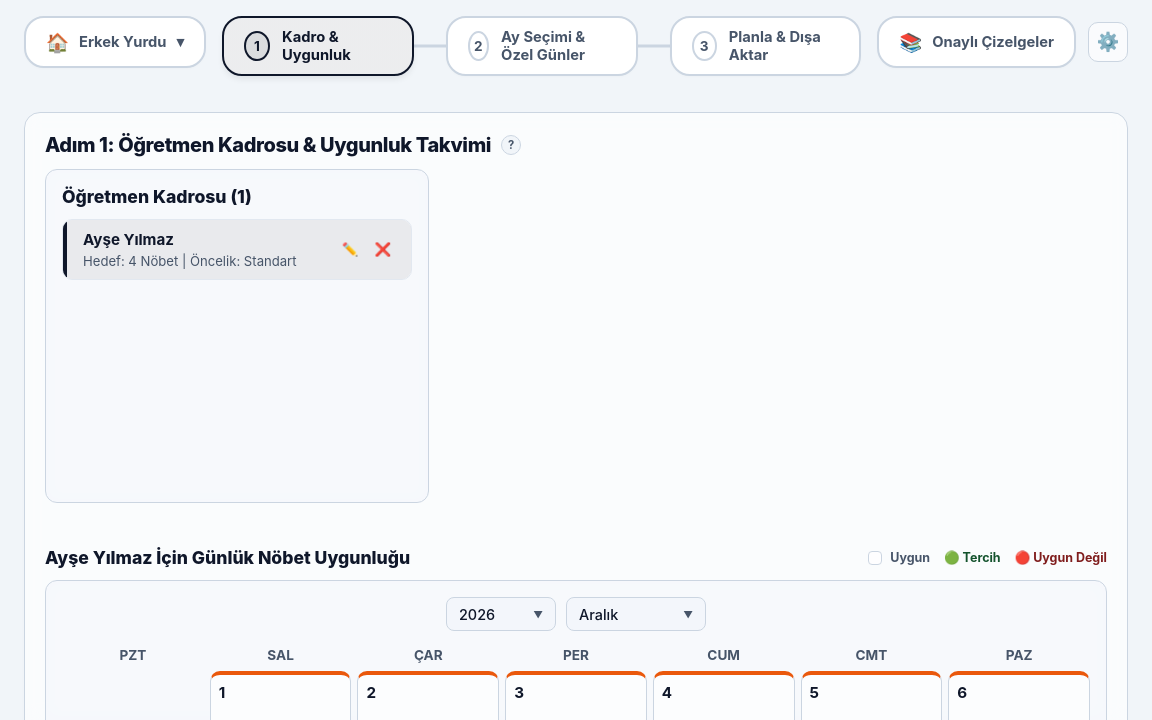
it: choosing a duty post › switches post from a later step too
Expected: the heading "Öğretmen Kadrosu (1)" is shown, [62,186,252,207]
Click the text "Planla & Dışa Aktar". click: (775, 46)
box: [729,28,821,64]
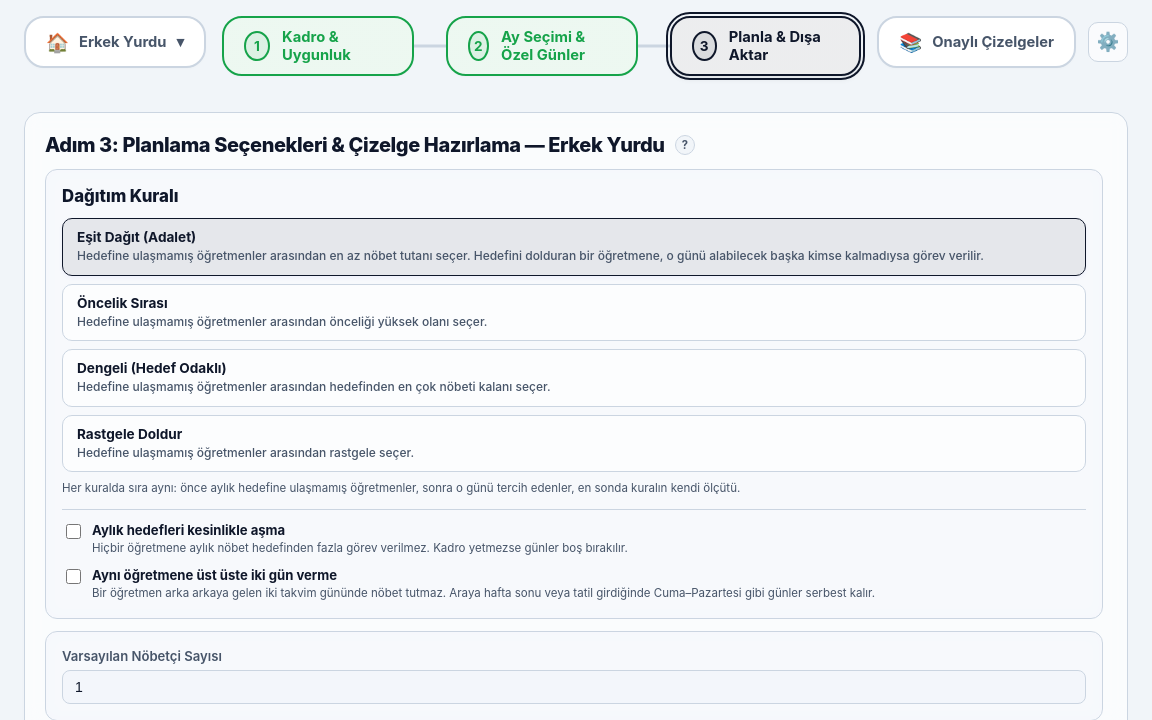
Click the button with aria-label "Nöbet yeri: ". click: (115, 42)
box: [24,16,206,68]
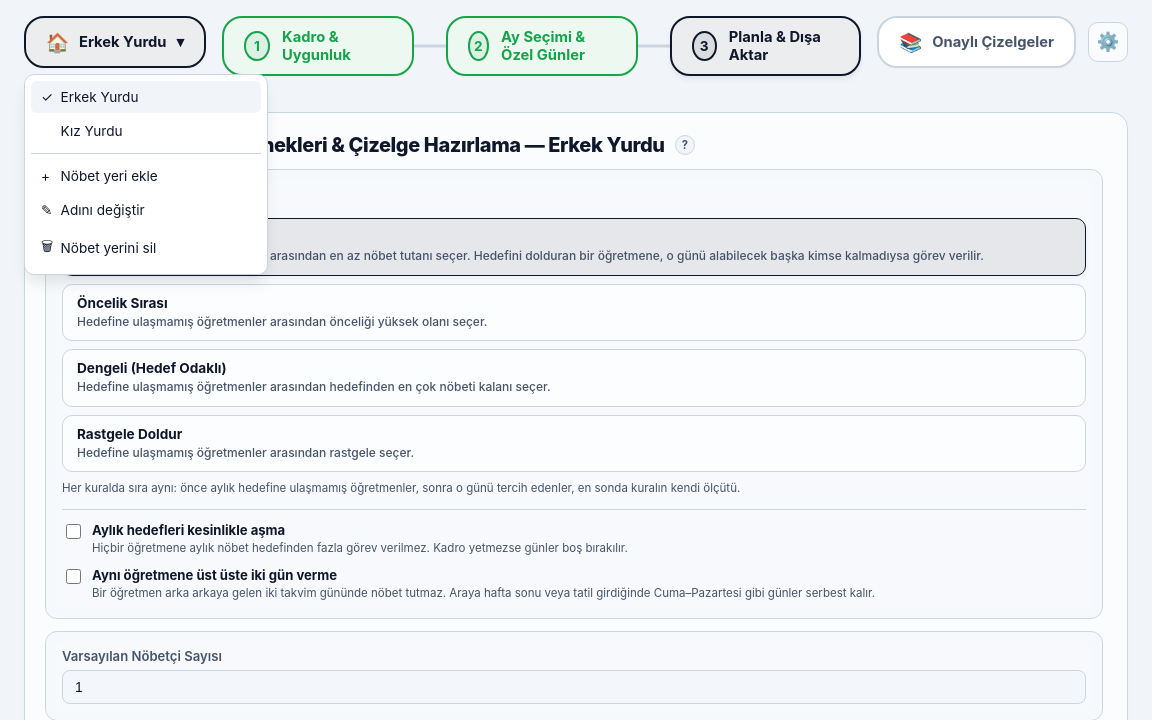
Click the menu item "Kız Yurdu". click: (146, 131)
box: [31,115,261,147]
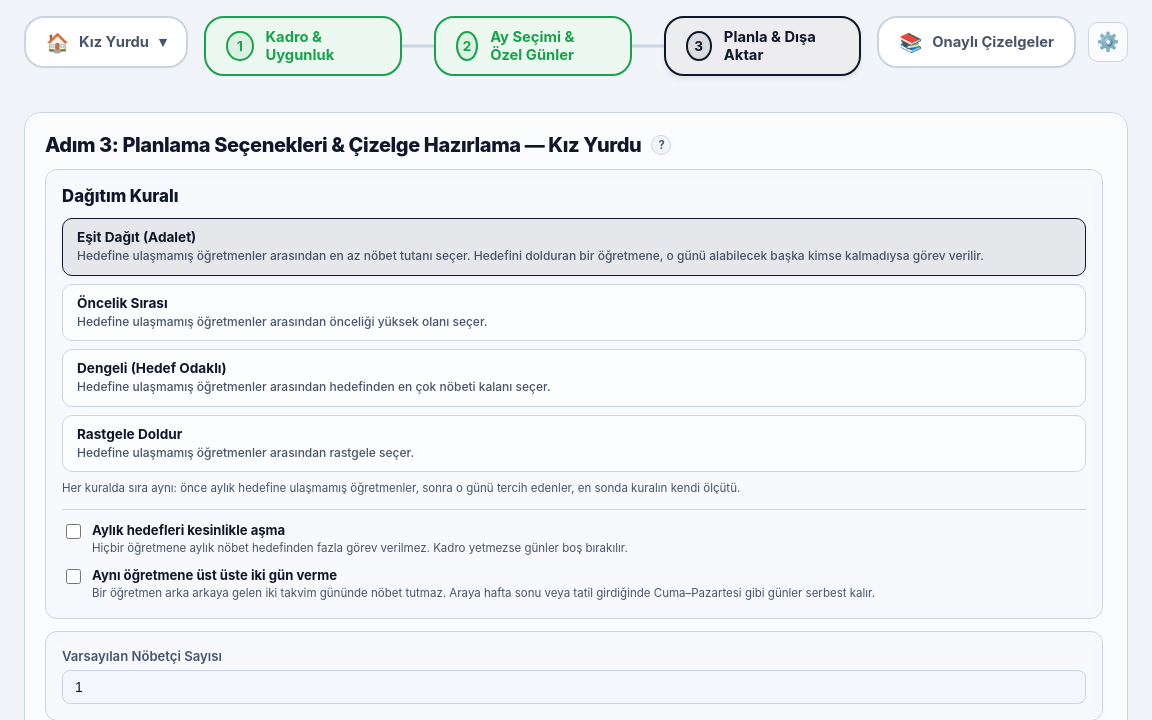
Now the 1st heading is shown, box [45,133,671,157]
